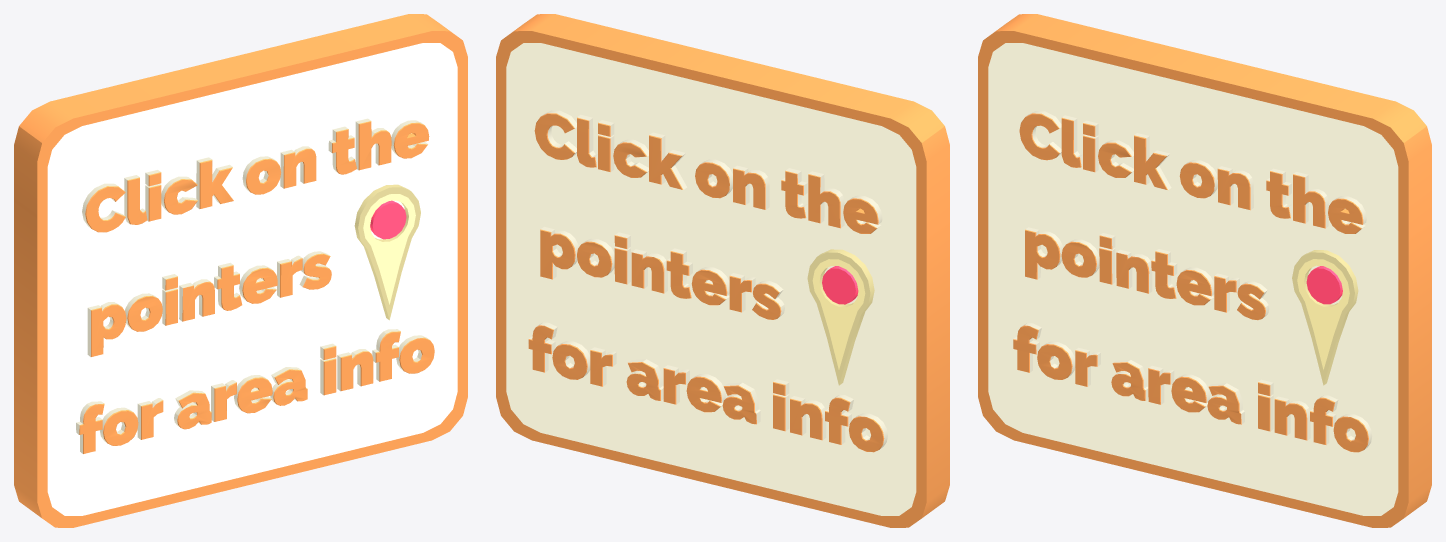
File: displayPanel.glb
3 renders of one model, left to right at view 1: azimuth 30°, elevation 25°; view 2: azimuth 150°, elevation 25°; view 3: azimuth 330°, elevation 25°, orthographic.
Visible parts, largest first — view 1: Cube.003, Text.004, Pointer.010; view 2: Cube.003, Text.001, Pointer.008; view 3: Cube.003, Text.004, Pointer.010.
Part boxes in pixels (left/top/right/bottom): Cube.003: left=14, top=14, right=467, bottom=527; Text.004: left=76, top=118, right=434, bottom=453; Pointer.010: left=354, top=184, right=420, bottom=320; Cube.003: left=496, top=14, right=949, bottom=527; Text.001: left=528, top=110, right=887, bottom=452; Pointer.008: left=807, top=249, right=874, bottom=385; Cube.003: left=978, top=14, right=1431, bottom=527; Text.004: left=1013, top=111, right=1372, bottom=452; Pointer.010: left=1292, top=250, right=1358, bottom=385.
Size of the model in its own units: 1 by 0.9102 by 0.126.
2 materials, 2 textured.
